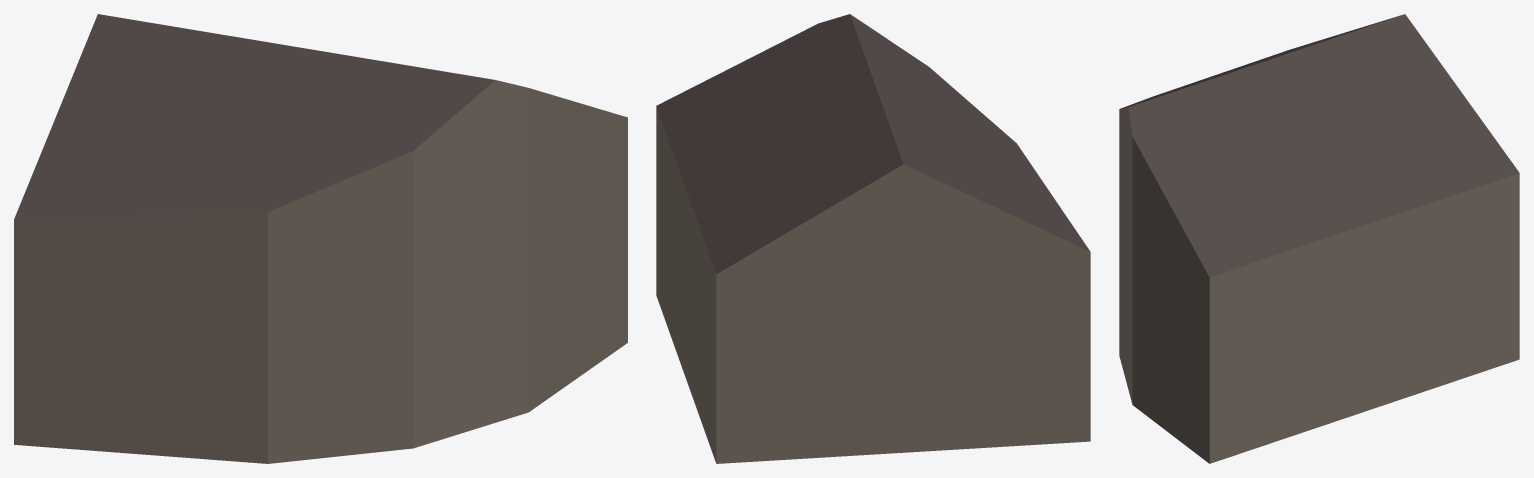
3 views of the same model, side by side, from view 1: azimuth 30°, elevation 25°; view 2: azimuth 150°, elevation 25°; view 3: azimuth 270°, elevation 25° (orthographic). The views are drawn at different scales.
Parts seen in each view (by area): view 1: HP-w1197052538; view 2: HP-w1197052538; view 3: HP-w1197052538.
Boxes of the visible parts, x1,y1,x2,y2 form: HP-w1197052538: (14,14,627,463); HP-w1197052538: (656,14,1090,463); HP-w1197052538: (1119,14,1519,463).
Bounding box in the file's own units: 15.75 × 9.13 × 11.69.
